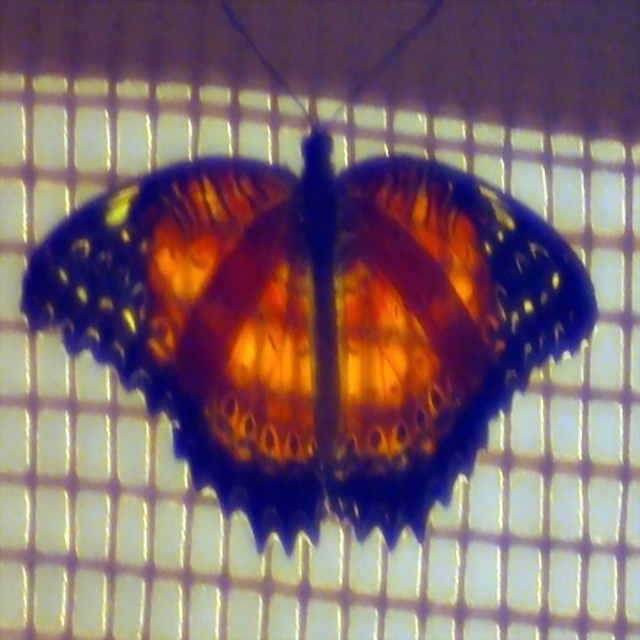Butterfly: (17, 0, 603, 555)
